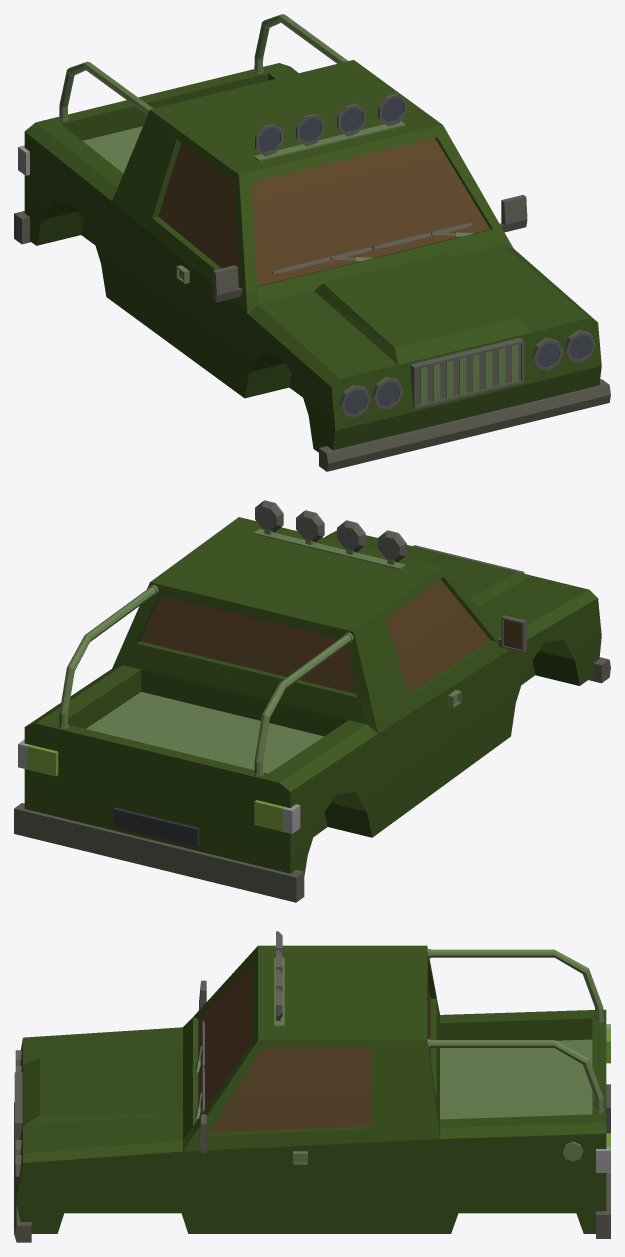
Rendered from Car_36.fbx.
The picture shows the model from 3 angles, top to bottom: view 1: azimuth 30°, elevation 25°; view 2: azimuth 150°, elevation 25°; view 3: azimuth 270°, elevation 25°; orthographic projection. The views are drawn at different scales.
Visible parts, largest first — view 1: Car_36; view 2: Car_36; view 3: Car_36.
Part boxes in pixels (x1,y1,x2,y2): Car_36: (14,14,610,471); Car_36: (14,500,610,902); Car_36: (14,931,610,1242).
Bounding box in the file's own units: 1.87 × 1.3 × 3.28.
